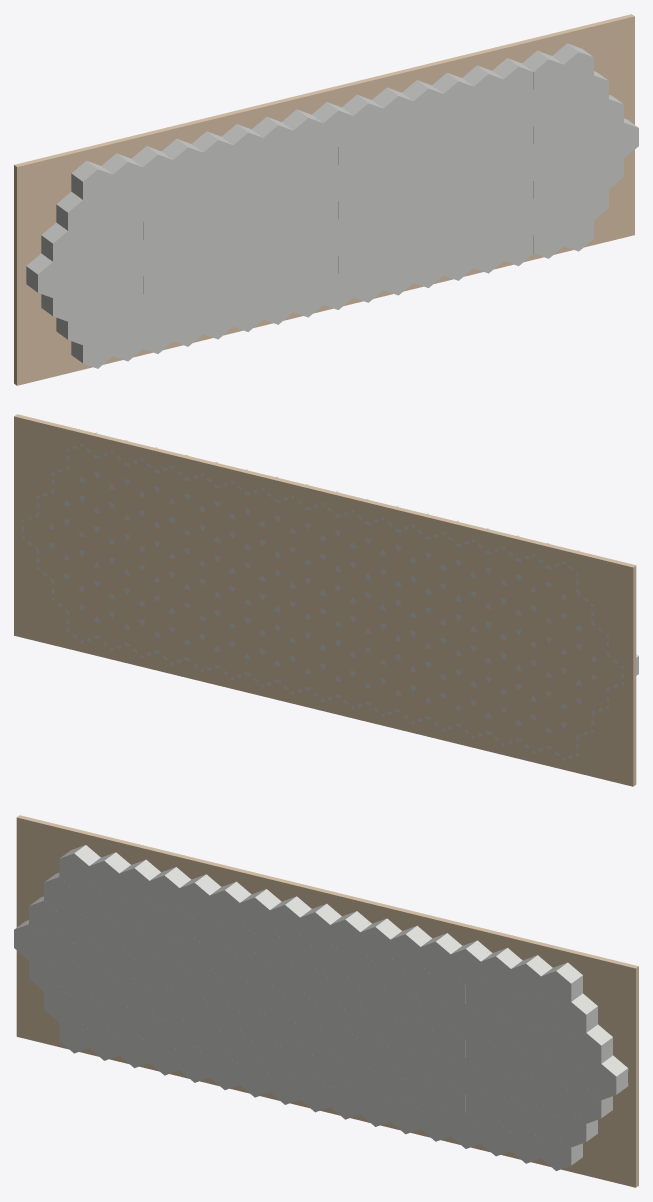
The model's file is panel.fbx.
The picture shows the model from 3 angles, top to bottom: view 1: azimuth 30°, elevation 25°; view 2: azimuth 150°, elevation 25°; view 3: azimuth 330°, elevation 25°; orthographic projection.
Parts seen in each view (by area): view 1: Body7 (×128), Body3; view 2: Body3; view 3: Body7 (×128), Body3.
Part boxes in pixels (<box>): Body7 (×128): <box>26,43,638,368</box>; Body3: <box>14,14,634,385</box>; Body3: <box>14,414,636,786</box>; Body7 (×128): <box>14,845,628,1170</box>; Body3: <box>16,815,638,1187</box>.
Bounding box in the file's own units: 685 × 232 × 28.5.
